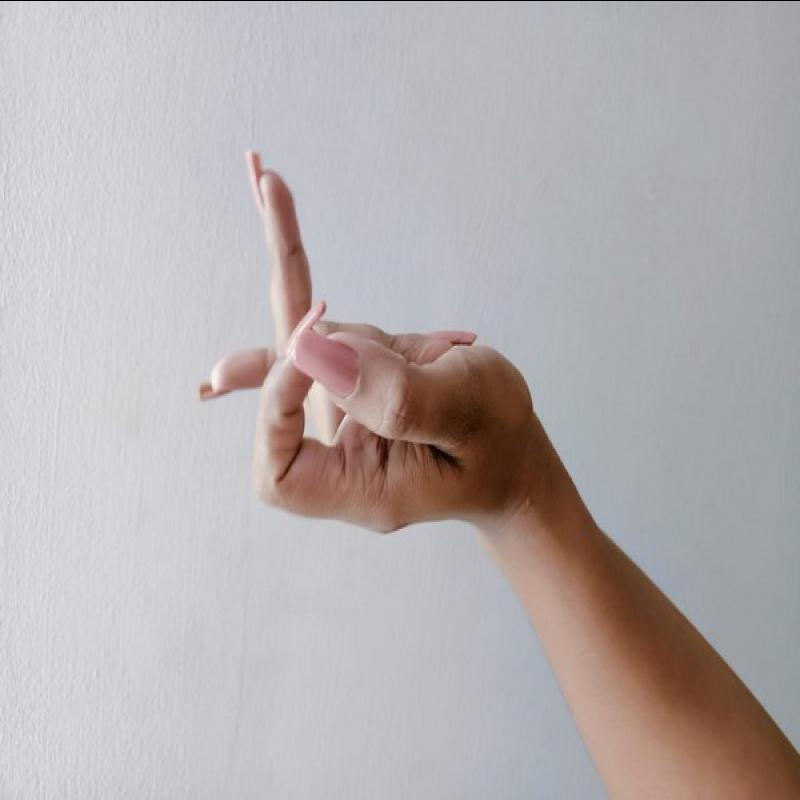Katakam: (123, 143, 554, 566)
